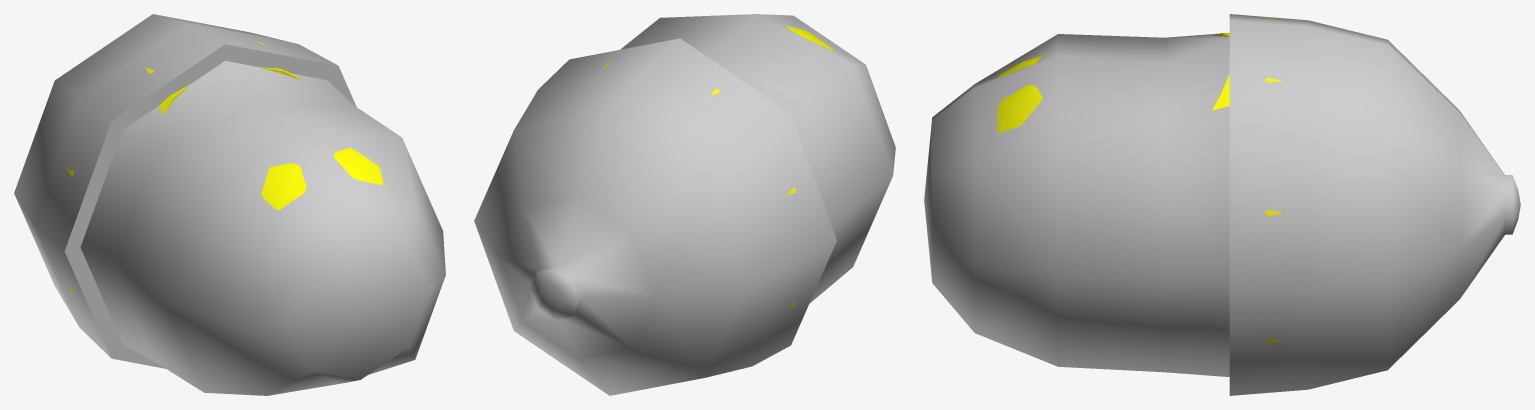
Rendered from sm_hana_cctv_ptz_camera.glb.
3 renders of one model, left to right at view 1: azimuth 30°, elevation 25°; view 2: azimuth 150°, elevation 25°; view 3: azimuth 270°, elevation 25°, orthographic. The views are drawn at different scales.
Visible parts, largest first — view 1: sm_color_common, sm_hana_cctv_ptz_camera; view 2: sm_color_common, sm_hana_cctv_ptz_camera; view 3: sm_color_common, sm_hana_cctv_ptz_camera.
Part boxes in pixels (x1,y1,x2,y2): sm_color_common: (14, 14, 445, 395); sm_hana_cctv_ptz_camera: (66, 41, 383, 292); sm_color_common: (474, 14, 895, 395); sm_hana_cctv_ptz_camera: (602, 26, 834, 308); sm_color_common: (924, 14, 1520, 395); sm_hana_cctv_ptz_camera: (997, 19, 1282, 343).
Size of the model in its own units: 0.6813 by 0.6813 by 1.
2 materials, 1 textured.
